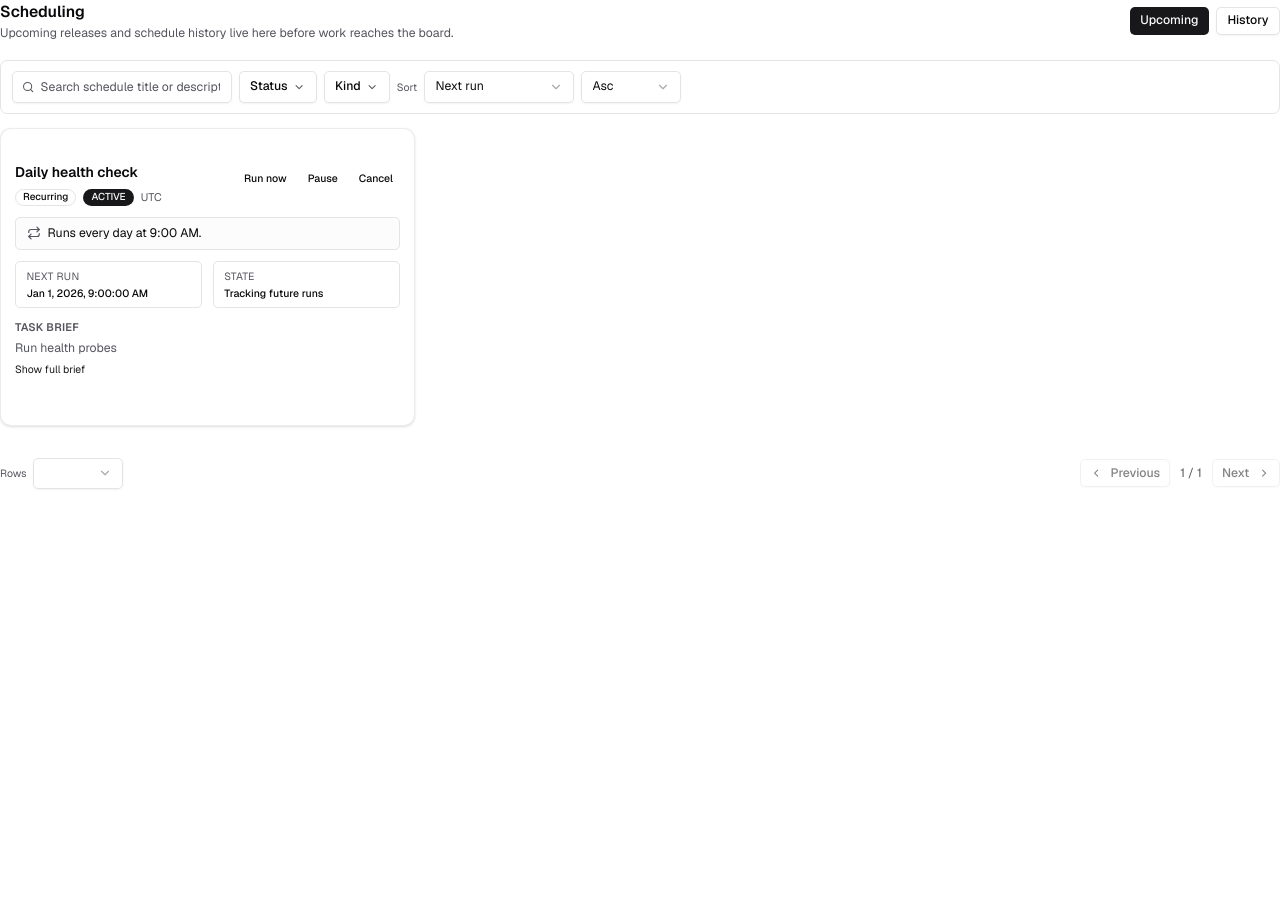
Test: SchedulingPage — Run now › disables the Run now button while its own request is in flight (double-click guard)
Click the button with test id "run-now-button". click: (265, 178)
box: [237,164,294,192]
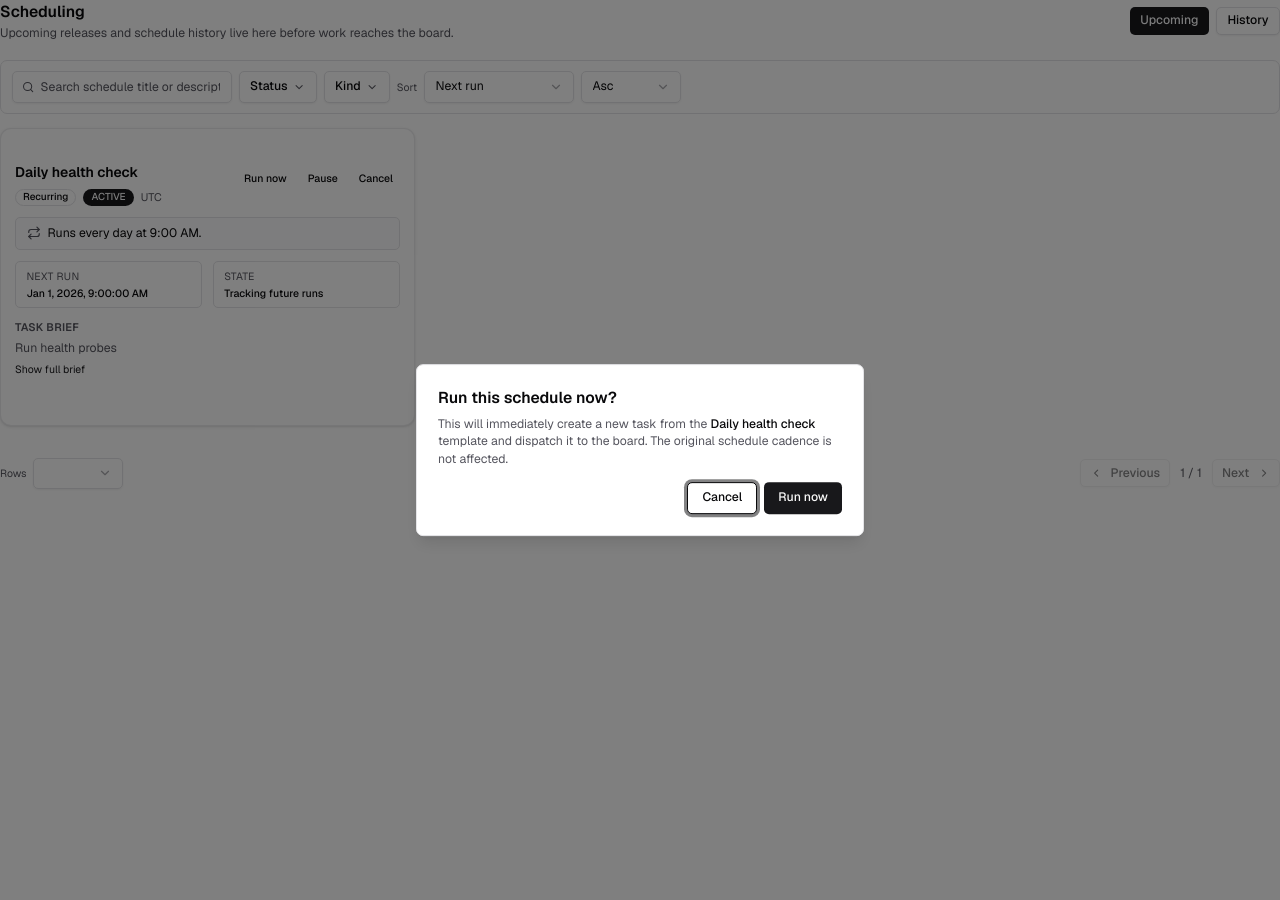
Click the button "Run now". click: (803, 498)
box: [764,482,842,514]
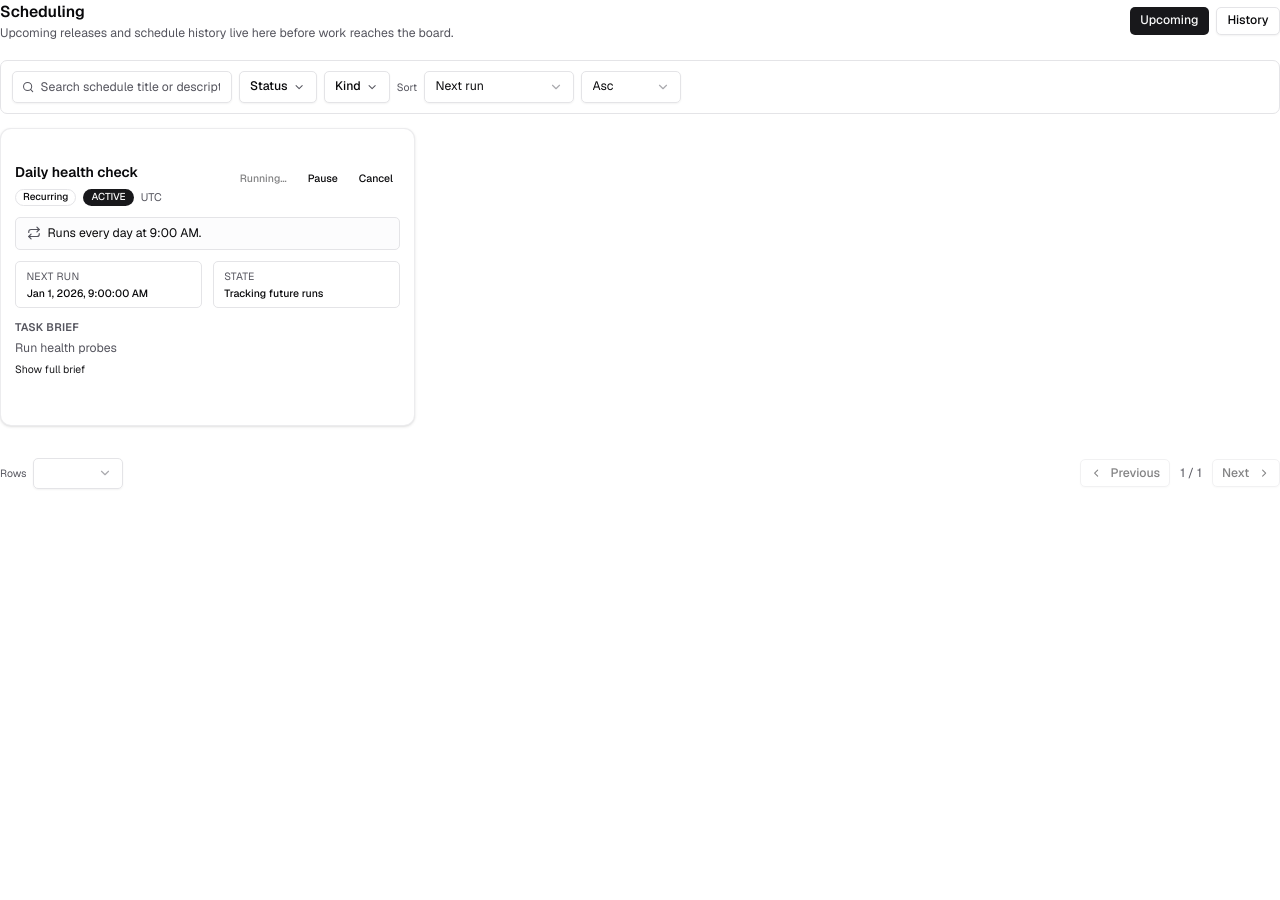
Expected: the button with test id "run-now-button" is disabled
Note: Re-clicking the (disabled) button must NOT trigger another POST.
Click the button with test id "run-now-button". click: (263, 178)
box: [233,164,294,192]
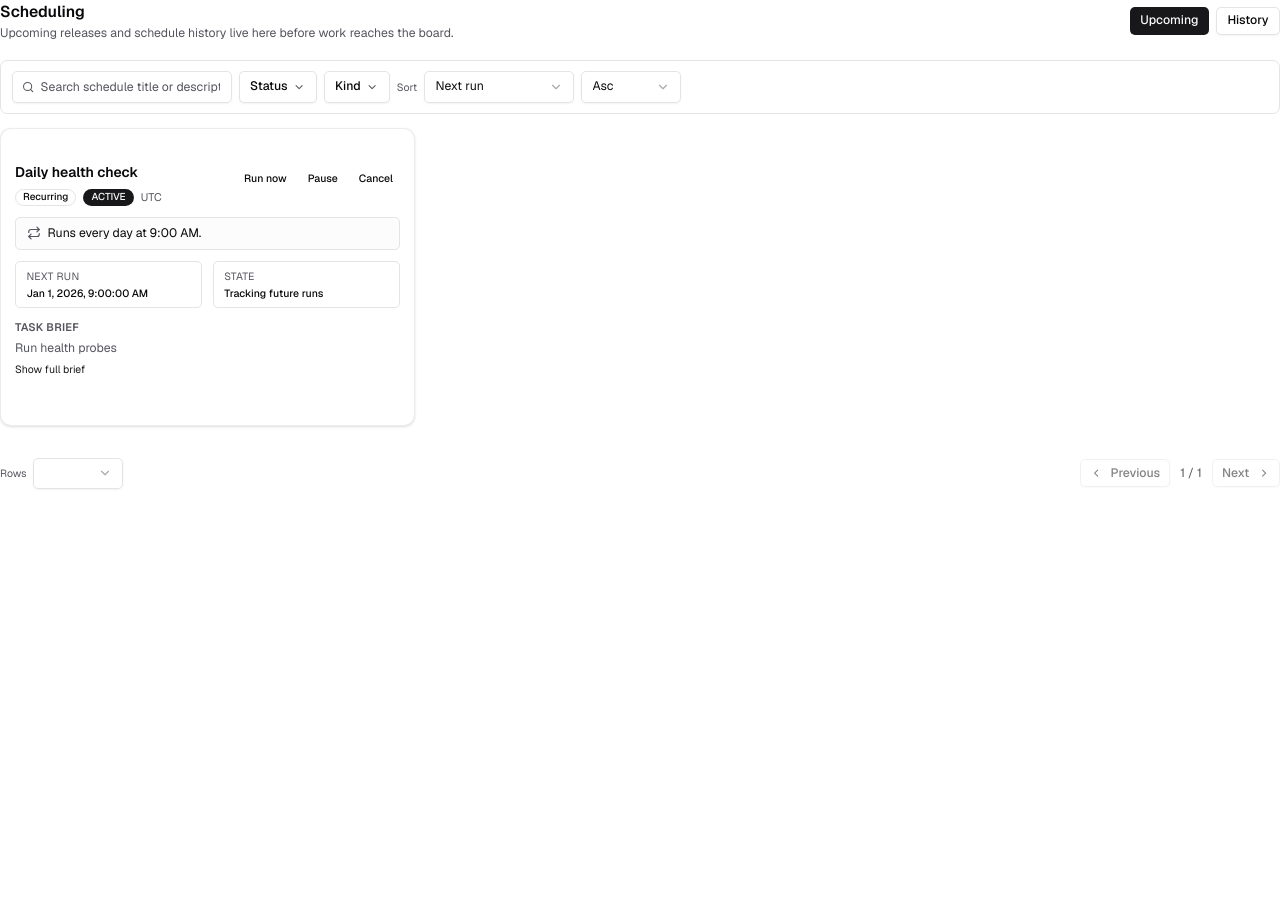
Expected: the button with test id "run-now-button" is enabled, [237,164,294,192]
